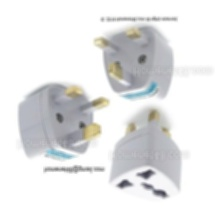three_eye_plug: (105, 108, 188, 205), (12, 81, 111, 160), (91, 22, 176, 104)
